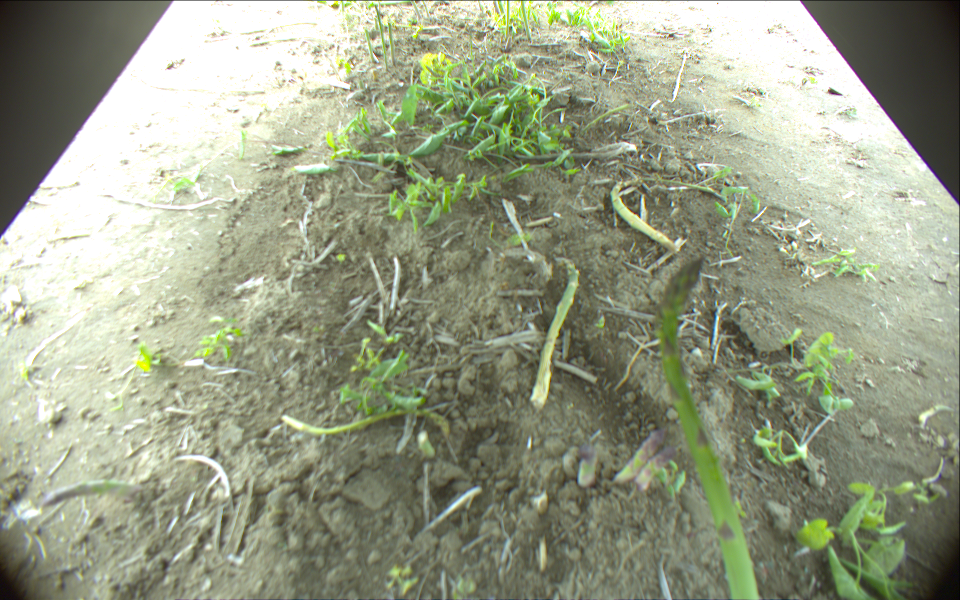aspa: (655, 258, 770, 600), (608, 174, 722, 251), (526, 256, 580, 406), (282, 403, 452, 446), (618, 426, 667, 486), (42, 480, 147, 508), (638, 443, 675, 485), (376, 7, 391, 68), (518, 1, 534, 44), (388, 21, 400, 67), (363, 28, 378, 61), (504, 1, 513, 39), (410, 1, 424, 20), (420, 1, 432, 16), (499, 1, 507, 18), (493, 1, 501, 17), (480, 1, 484, 14)
